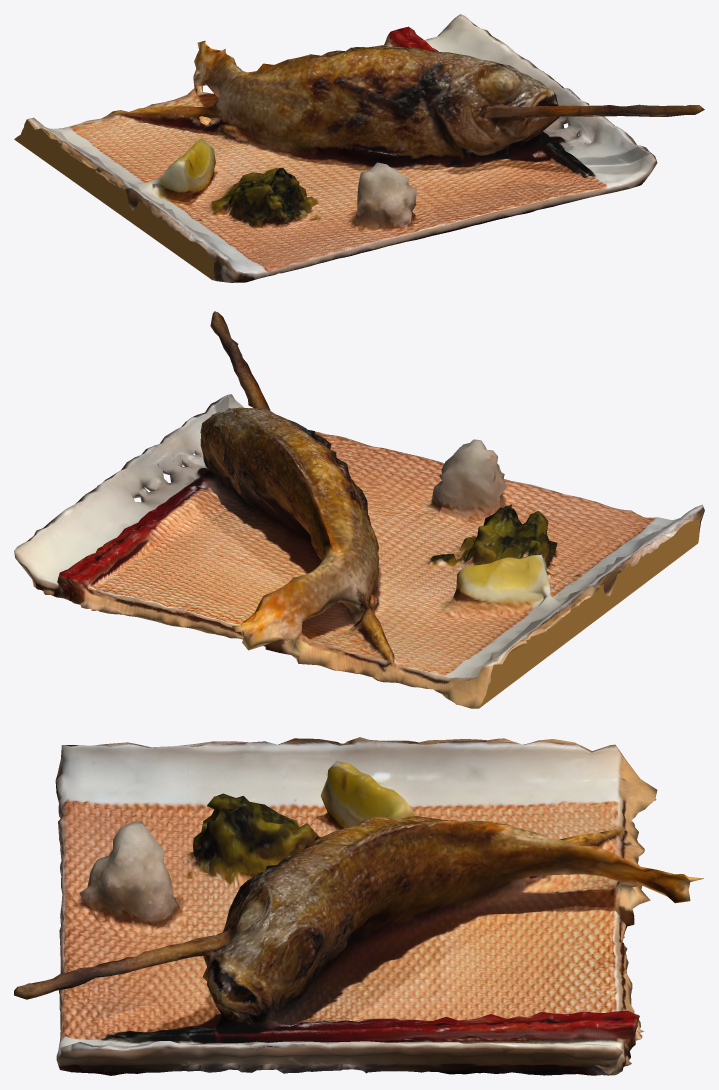
File: nodoguro-photogra.glb
The picture shows the model from 3 angles, top to bottom: view 1: azimuth 30°, elevation 25°; view 2: azimuth 150°, elevation 25°; view 3: azimuth 270°, elevation 25°; orthographic projection. The views are drawn at different scales.
Parts seen in each view (by area): view 1: g0; view 2: g0; view 3: g0.
Boxes of the visible parts, x1,y1,x2,y2 form: g0: (14, 14, 704, 282); g0: (14, 311, 704, 708); g0: (14, 737, 703, 1075).
Bounding box in the file's own units: 0.3262 × 0.0655 × 0.2911.
1 material, 1 textured.
